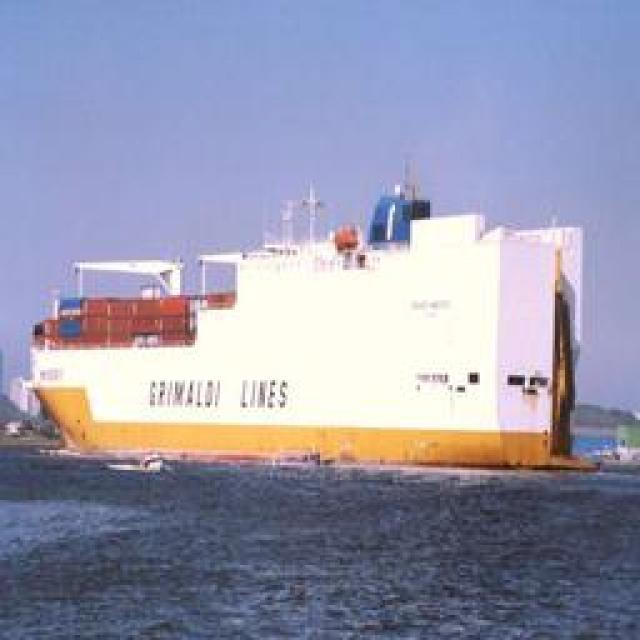ship2: (29, 194, 592, 474)
